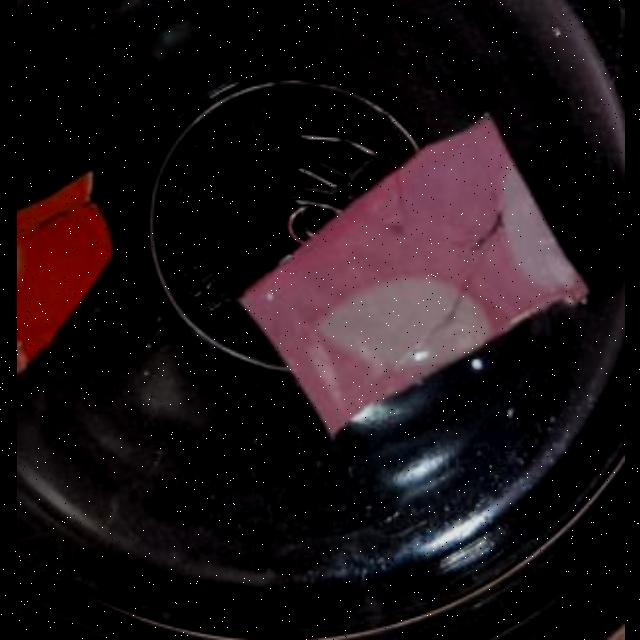Fragment: (234, 114, 590, 440), (16, 169, 110, 375)
